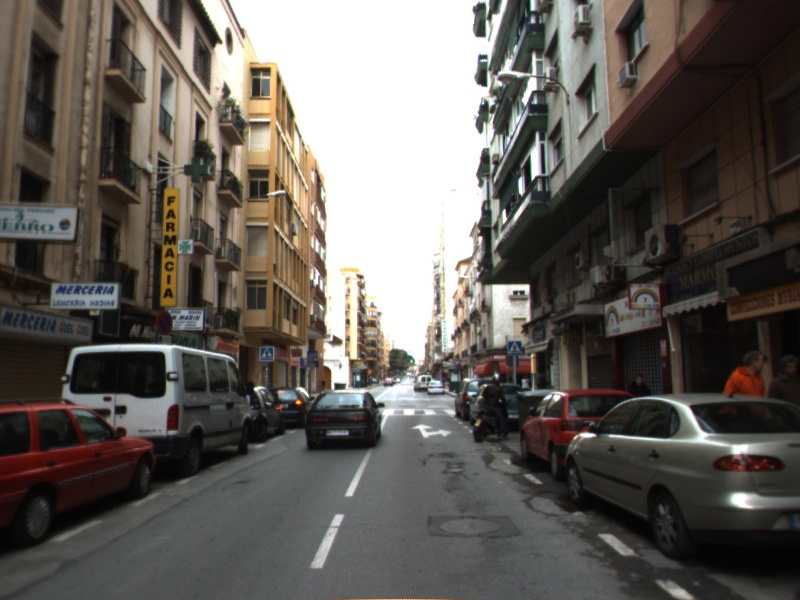STRAIGHT_RIGHT: (409, 422, 454, 440)
